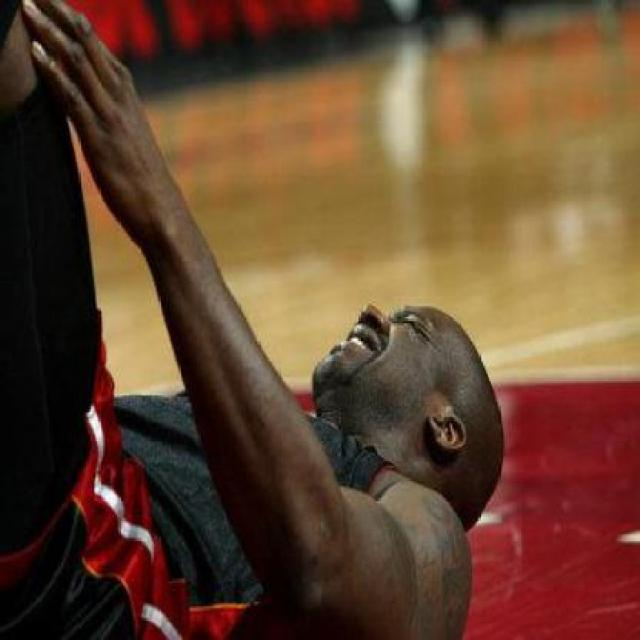fall: (0, 0, 542, 638)
